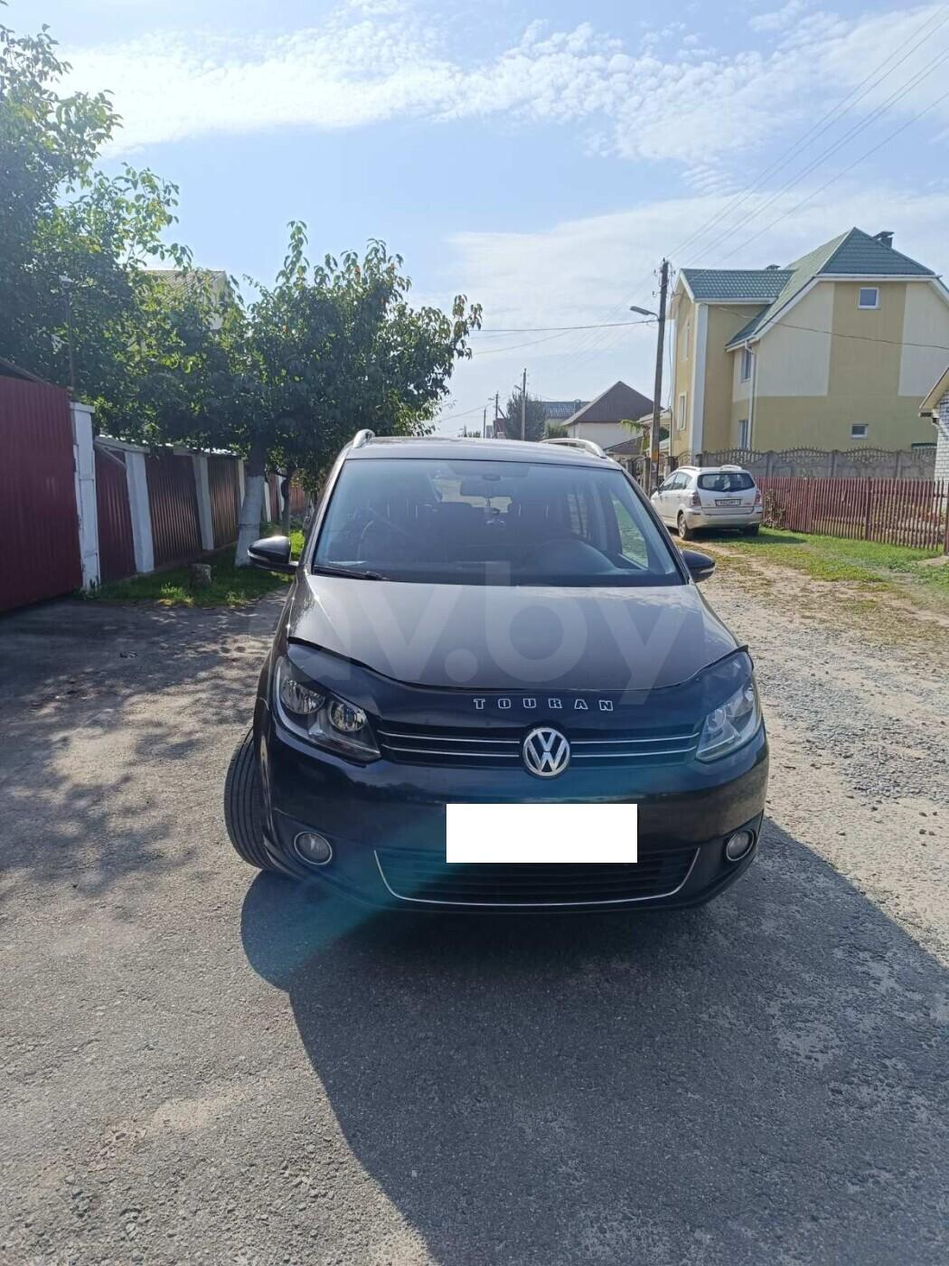Touran_2010-2015: (230, 425, 783, 937)
